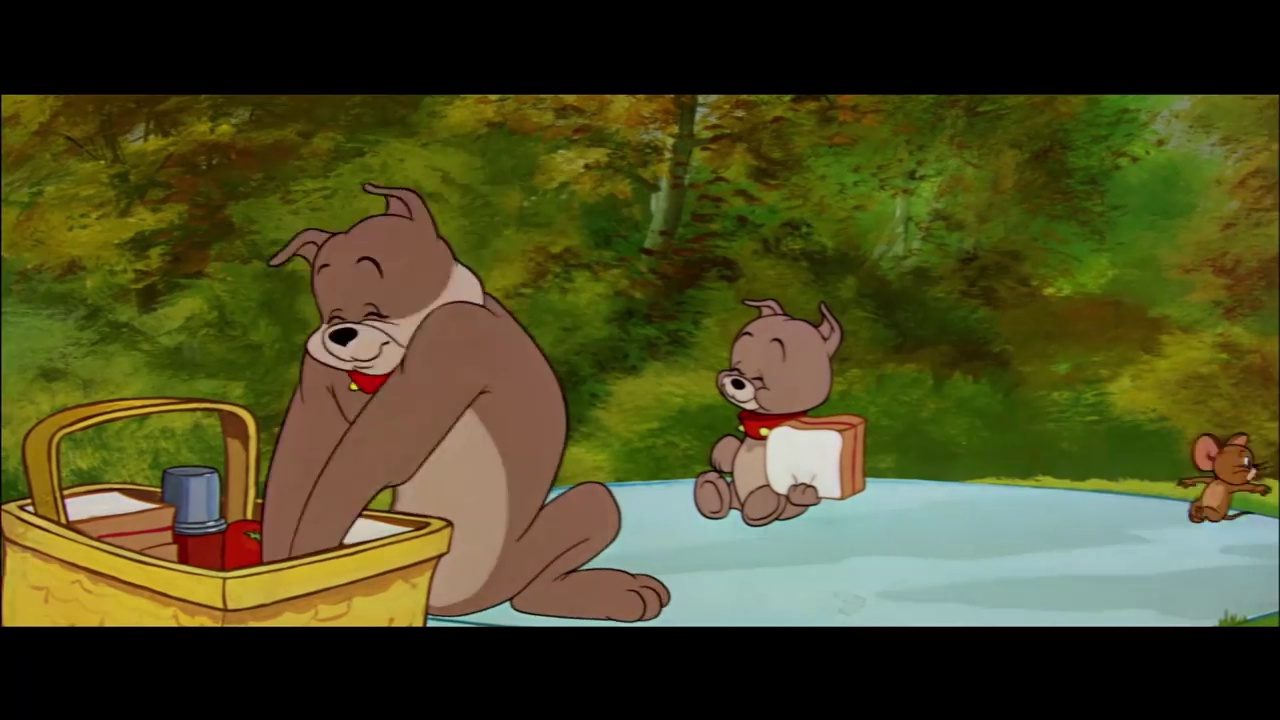spike: (269, 181, 489, 398)
